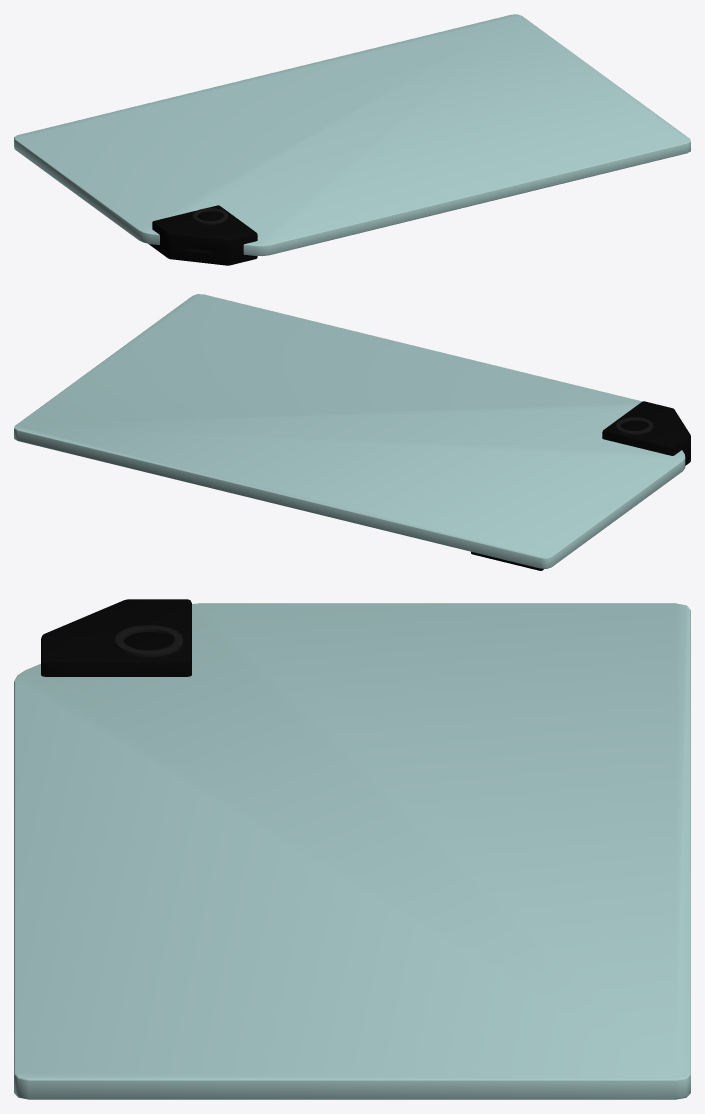
File: Phone.obj
The picture shows the model from 3 angles, top to bottom: view 1: azimuth 30°, elevation 25°; view 2: azimuth 150°, elevation 25°; view 3: azimuth 270°, elevation 25°; orthographic projection. The views are drawn at different scales.
Parts seen in each view (by area): view 1: Cube, Cube.001; view 2: Cube, Cube.001; view 3: Cube, Cube.001, Cylinder.001.
Boxes of the visible parts, x1,y1,x2,y2 form: Cube: (14, 14, 690, 256); Cube.001: (148, 205, 257, 265); Cube: (14, 294, 685, 568); Cube.001: (471, 401, 690, 570); Cube: (14, 603, 690, 1099); Cube.001: (41, 599, 191, 676); Cylinder.001: (114, 625, 183, 657).
Bounding box in the file's own units: 20 × 1.2 × 12.
